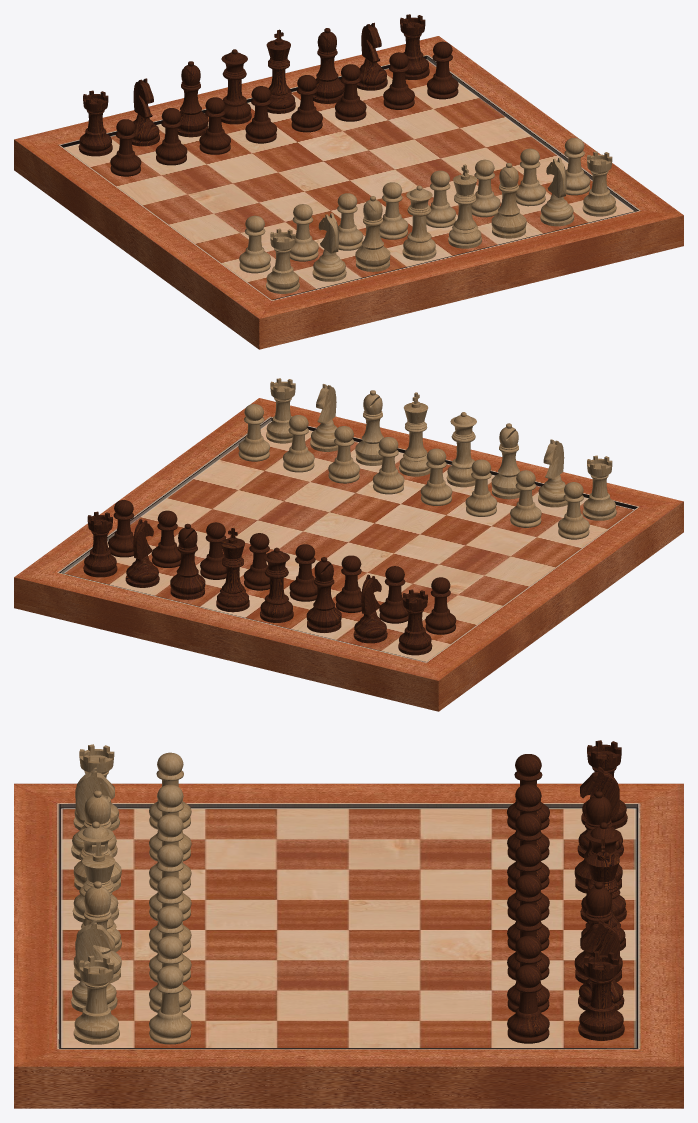
File: handmade_wooden_chess_set_-_detailed_low-poly.glb
The picture shows the model from 3 angles, top to bottom: view 1: azimuth 30°, elevation 25°; view 2: azimuth 150°, elevation 25°; view 3: azimuth 270°, elevation 25°; orthographic projection. The views are drawn at different scales.
Visible parts, largest first — view 1: Chess_board, King_W, Queen_W, Bishop_W1, Bishop_W2, King_B, Queen_B, Bishop_B1, Bishop_B2, Rook_B2, Rook_W1, Rook_W2 (+21 smaller); view 2: Chess_board, King_B, Bishop_B1, Bishop_B2, Queen_B, King_W, Queen_W, Rook_B2, Rook_B1, Rook_W2, Bishop_W2, Bishop_W1 (+21 smaller); view 3: Chess_board, Rook_B1, Rook_W1, Pawn_W8, Pawn_B8, knight_W1, knight_B1, Bishop_B1, Bishop_W1, King_B, knight_W2, Bishop_B2 (+21 smaller).
Boxes of the visible parts, left/top/right/bottom form: Chess_board: left=14, top=36, right=683, bottom=349; King_W: left=448, top=164, right=481, bottom=248; Queen_W: left=402, top=185, right=436, bottom=260; Bishop_W1: left=491, top=163, right=526, bottom=238; Bishop_W2: left=355, top=196, right=390, bottom=271; King_B: left=266, top=29, right=295, bottom=113; Queen_B: left=221, top=49, right=251, bottom=124; Bishop_B1: left=313, top=28, right=344, bottom=103; Bishop_B2: left=177, top=61, right=208, bottom=137; Rook_B2: left=78, top=90, right=112, bottom=156; Rook_W1: left=582, top=151, right=616, bottom=216; Rook_W2: left=266, top=228, right=299, bottom=293; Chess_board: left=14, top=398, right=683, bottom=711; King_B: left=216, top=528, right=249, bottom=612; Bishop_B1: left=170, top=523, right=205, bottom=599; Bishop_B2: left=306, top=557, right=341, bottom=632; Queen_B: left=260, top=547, right=293, bottom=622; King_W: left=399, top=392, right=430, bottom=476; Queen_W: left=446, top=412, right=476, bottom=487; Rook_B2: left=398, top=589, right=432, bottom=655; Rook_B1: left=83, top=511, right=117, bottom=577; Rook_W2: left=582, top=455, right=616, bottom=520; Bishop_W2: left=491, top=423, right=519, bottom=499; Bishop_W1: left=355, top=390, right=383, bottom=465; Chess_board: left=14, top=783, right=683, bottom=1108; Rook_B1: left=578, top=951, right=624, bottom=1040; Rook_W1: left=73, top=955, right=119, bottom=1044; Pawn_W8: left=149, top=965, right=191, bottom=1044; Pawn_B8: left=507, top=965, right=549, bottom=1043; knight_W1: left=71, top=919, right=117, bottom=1012; knight_B1: left=578, top=918, right=624, bottom=1010; Bishop_B1: left=574, top=882, right=622, bottom=983; Bishop_W1: left=73, top=881, right=121, bottom=983; King_B: left=581, top=839, right=625, bottom=950; knight_W2: left=71, top=767, right=117, bottom=860; Bishop_B2: left=574, top=791, right=622, bottom=893.
Bounding box in the file's own units: 38.57 × 9.02 × 38.57.
14 materials, 14 textured.
